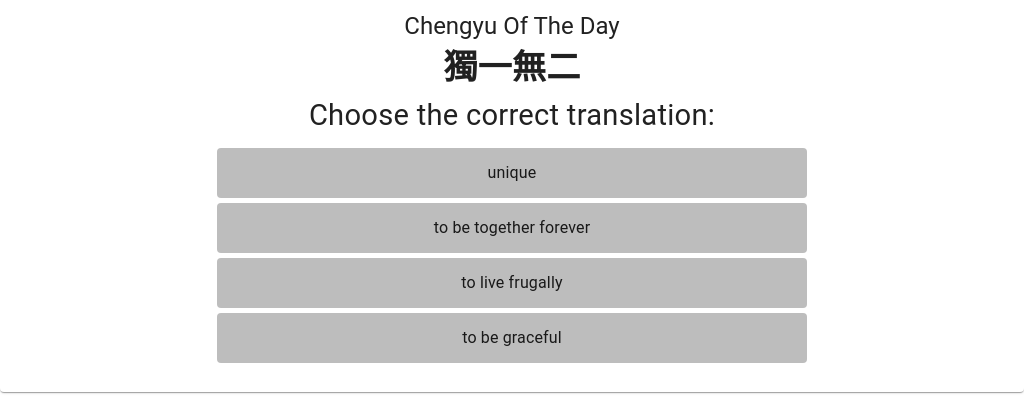
Test case: Chengyu — answering incorrectly › marks an incorrect option with incorrect aria-label after clicking it
Click the button "to be together forever".
click(512, 228)  # box [217,203,807,253]
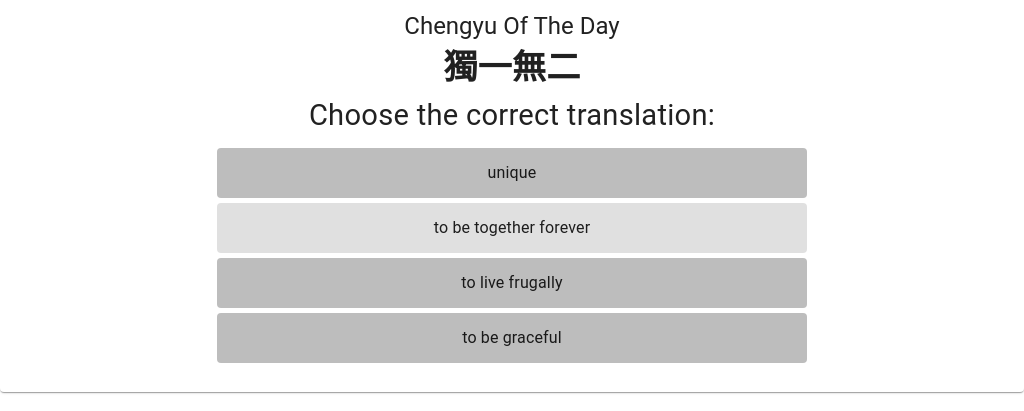
Expected: the button "to be together forever" is shown, [217,203,807,253]
